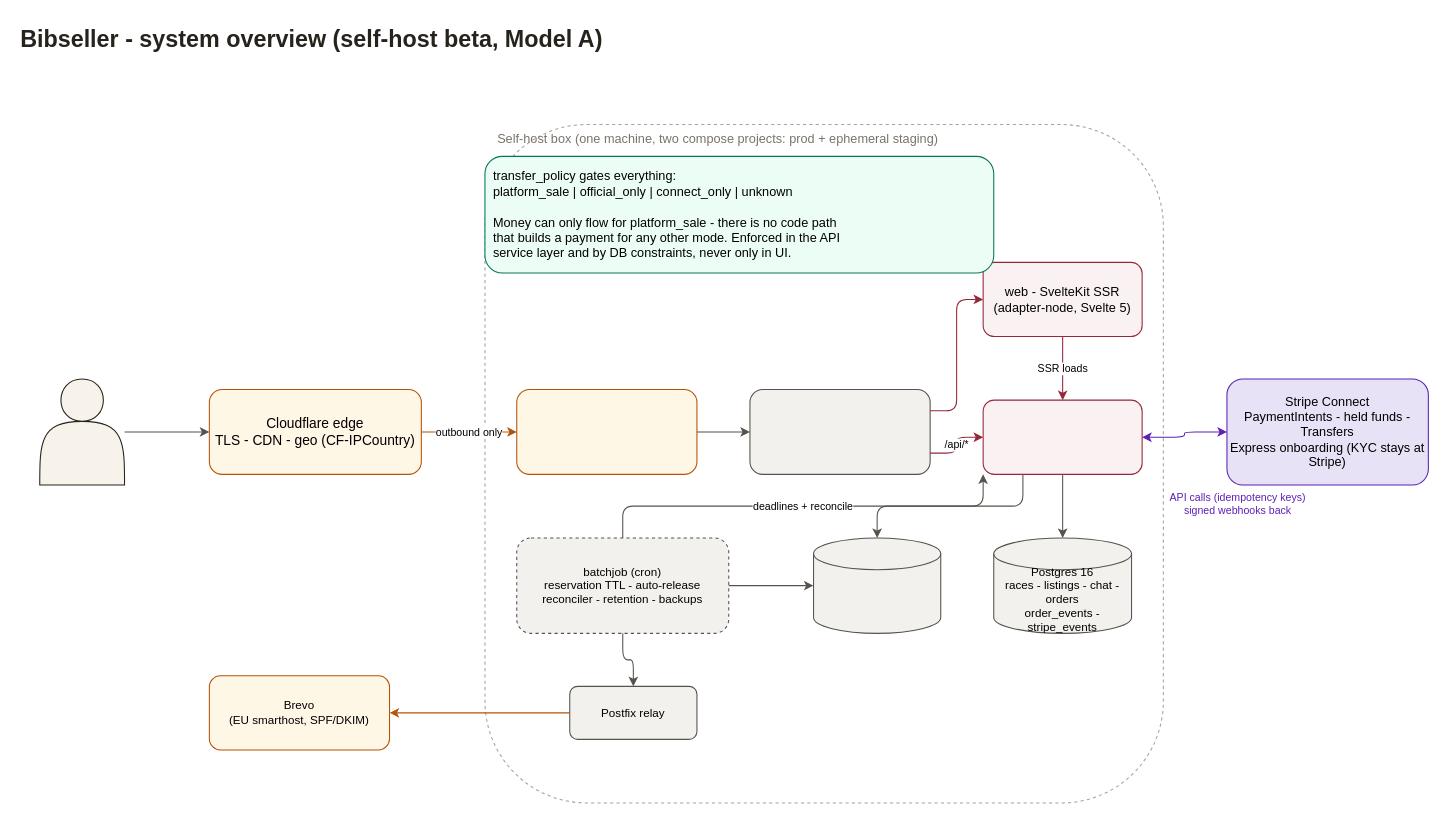
Some shapes in this 1447 by 821 pixel diagram are drawn without their labels. The centre of each missing label's shape, as x and y in pixels:
api - Go 1.25 stdlib ServeMux, pgx/sqlc: point (1062, 436)
Caddy :80 /api/* -> api - else -> web: point (839, 431)
cloudflared (outbound tunnel - no inbound ports): point (606, 431)
MinIO private chat images: point (876, 585)
Runners (buyers & sellers): point (82, 431)
